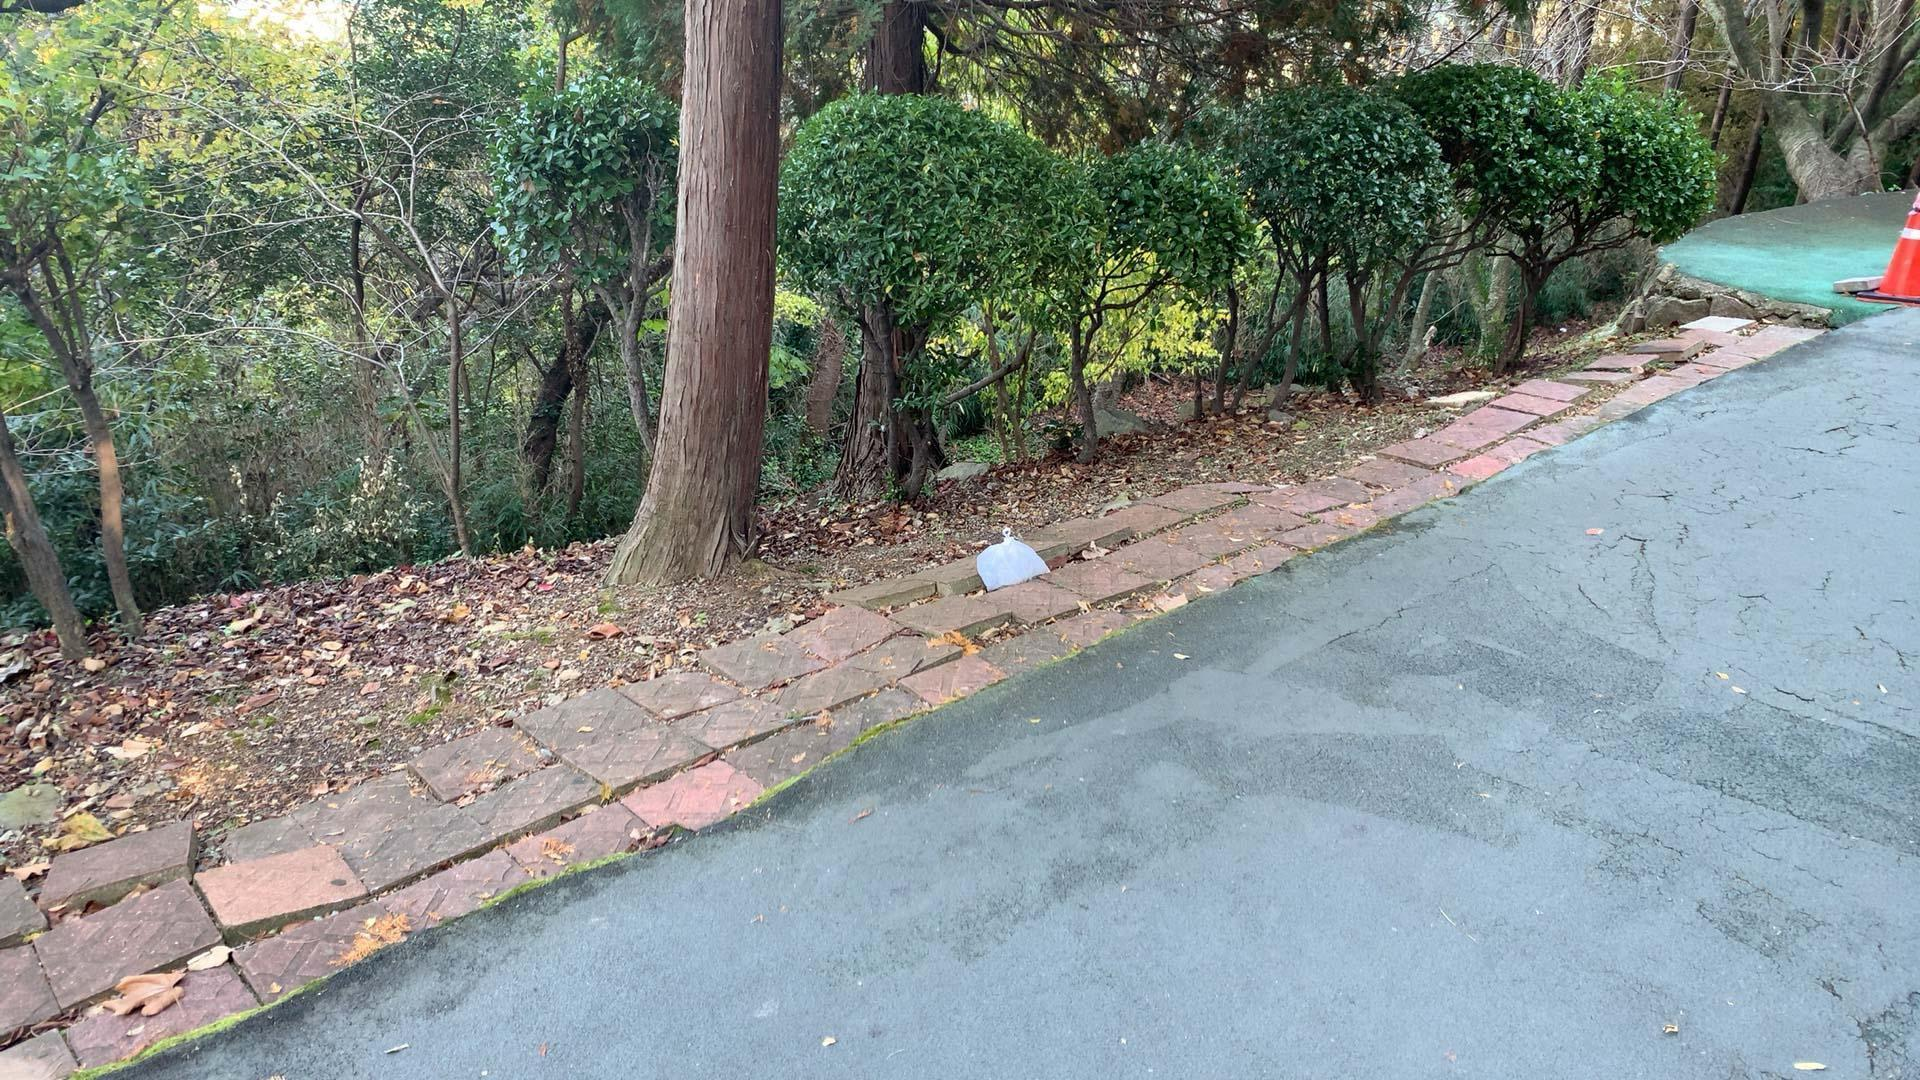white_bag: (971, 521, 1052, 591)
